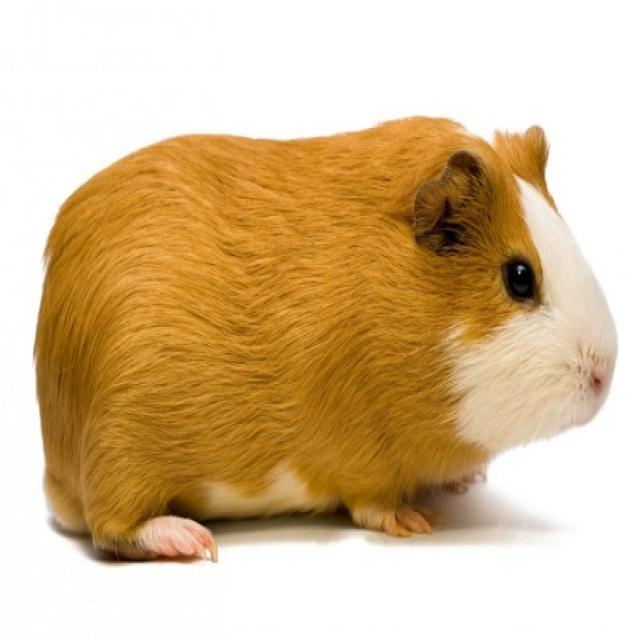guinea pig: (34, 114, 616, 567)
